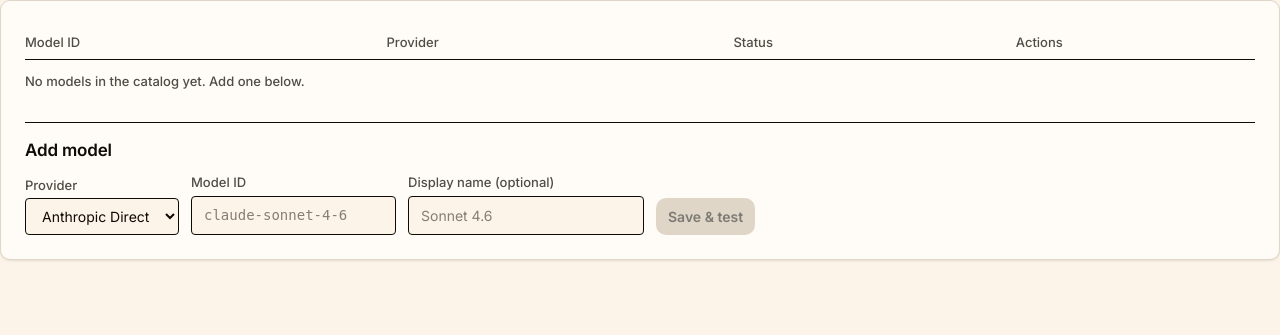
Scenario: LlmModelCatalogCard › add unsupported model 422 shows the engine message
This screenshot has width=1280, height=335.
Expected: the cell with test id "model-catalog-empty" is shown, [25, 60, 1255, 102]
In the field with test id "add-model-id-input": (294, 216) [191, 196, 396, 235], type "bogus-model"
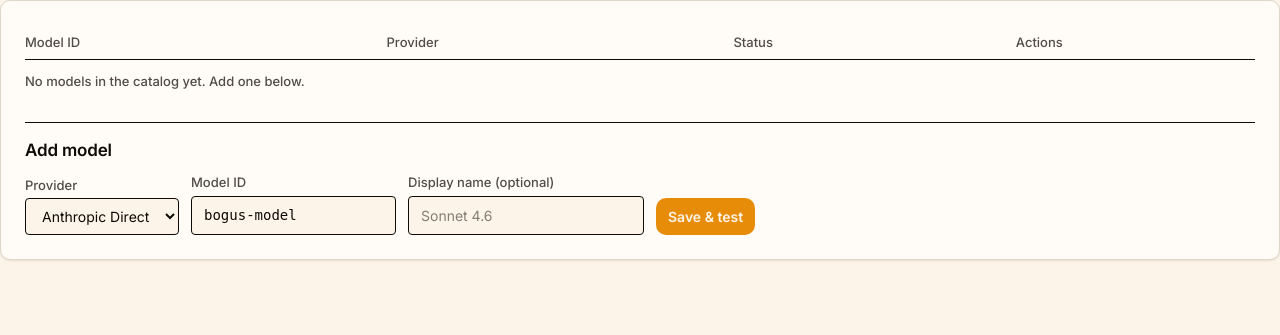
Click the button with test id "add-model-save-btn": (706, 217) [656, 198, 755, 235]
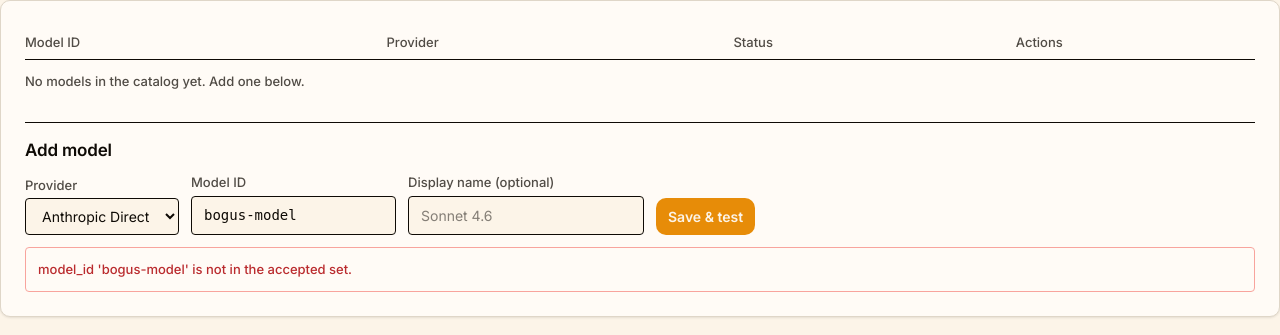
Result: the text "model_id 'bogus-model' is not in the accepted set." is shown at [25, 247, 1255, 292]
Result: the text with test id "add-model-error" shows "not in the accepted set" at [38, 261, 352, 277]
